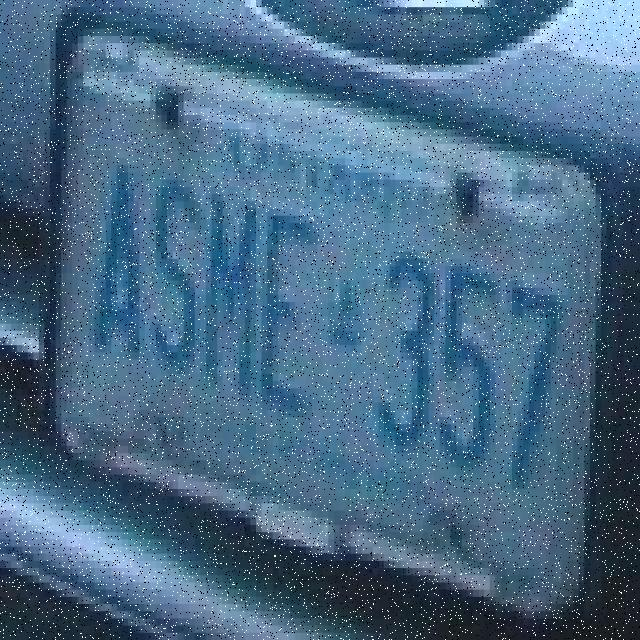licenseplate: (29, 3, 608, 620)
